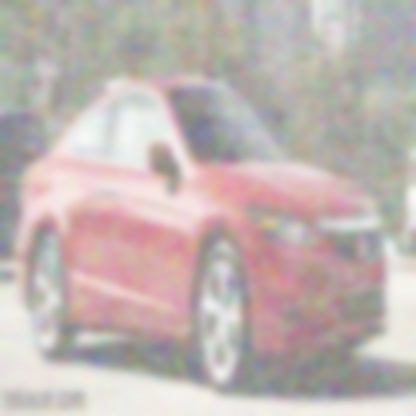Vehicle: (15, 79, 388, 394)
